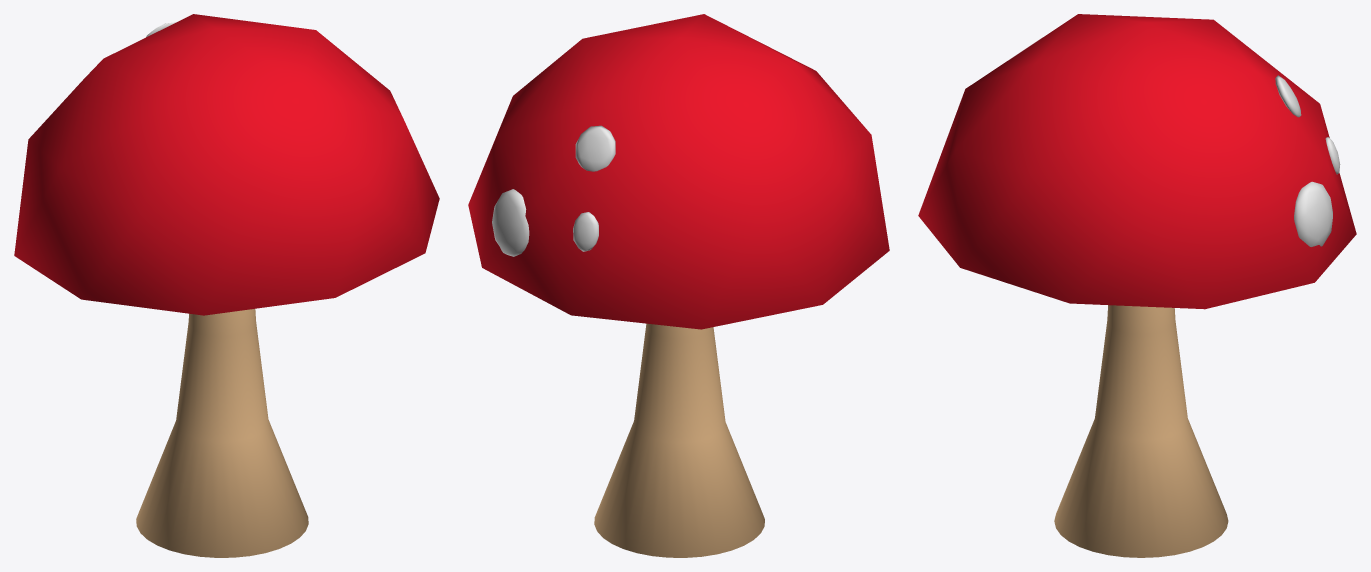
Rendered from redMushroom.fbx.
3 renders of one model, left to right at view 1: azimuth 30°, elevation 25°; view 2: azimuth 150°, elevation 25°; view 3: azimuth 270°, elevation 25°, orthographic.
Parts seen in each view (by area): view 1: Cylinder; view 2: Cylinder; view 3: Cylinder.
Boxes of the visible parts, bbox=[...] form: Cylinder: bbox=[14, 14, 439, 557]; Cylinder: bbox=[468, 14, 889, 557]; Cylinder: bbox=[918, 14, 1356, 557].
Bounding box in the file's own units: 190 × 249 × 200.
